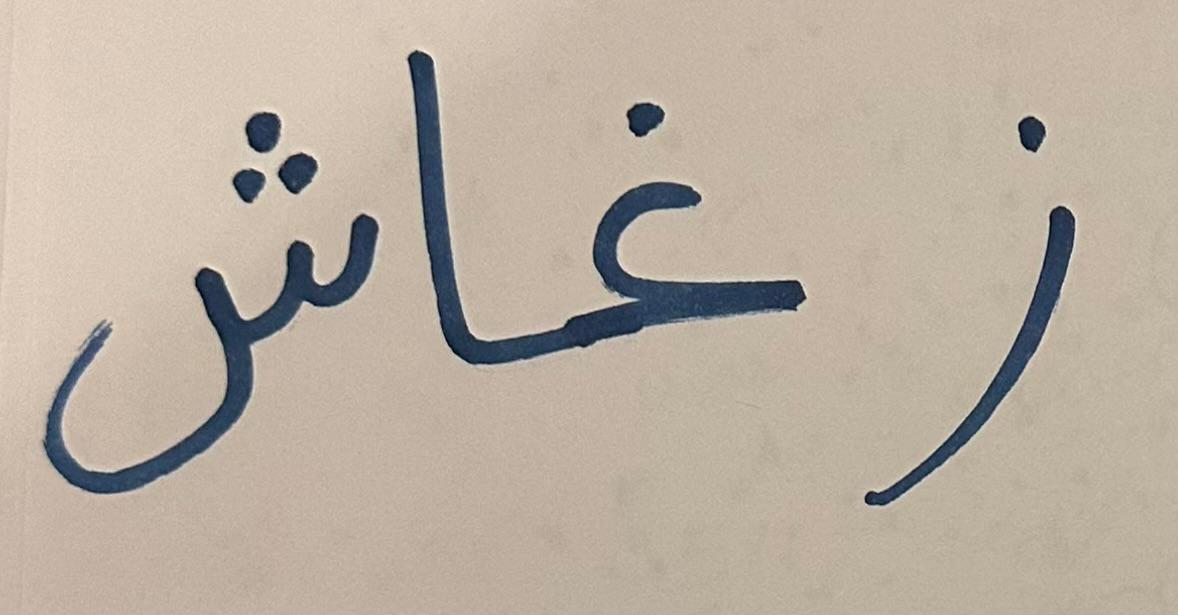alef: (387, 22, 498, 431)
ghain: (502, 51, 824, 414)
hamza: (828, 77, 1133, 543)
tah: (14, 57, 384, 524)
